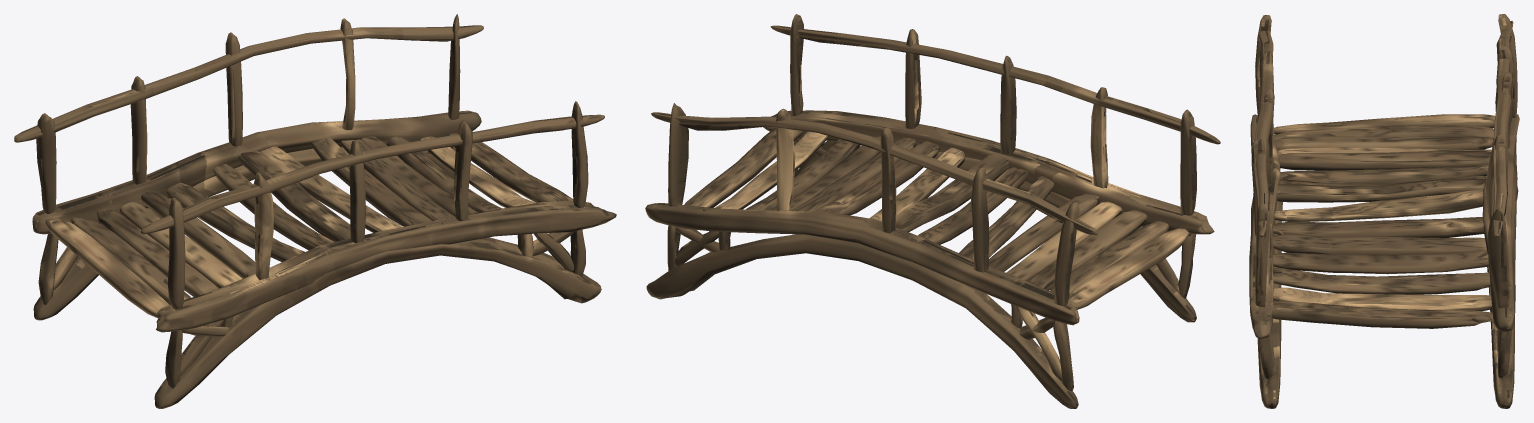
Rendered from archedbridge.fbx.
3 renders of one model, left to right at view 1: azimuth 30°, elevation 25°; view 2: azimuth 150°, elevation 25°; view 3: azimuth 270°, elevation 25°, orthographic. The views are drawn at different scales.
Parts seen in each view (by area): view 1: Cube.005; view 2: Cube.005; view 3: Cube.005.
Boxes of the visible parts, box(x1,y1,x2,y2) form: Cube.005: box(14, 14, 616, 408); Cube.005: box(645, 14, 1220, 408); Cube.005: box(1249, 14, 1519, 408).
Size of the model in its own units: 4.26 by 2.07 by 2.18.
